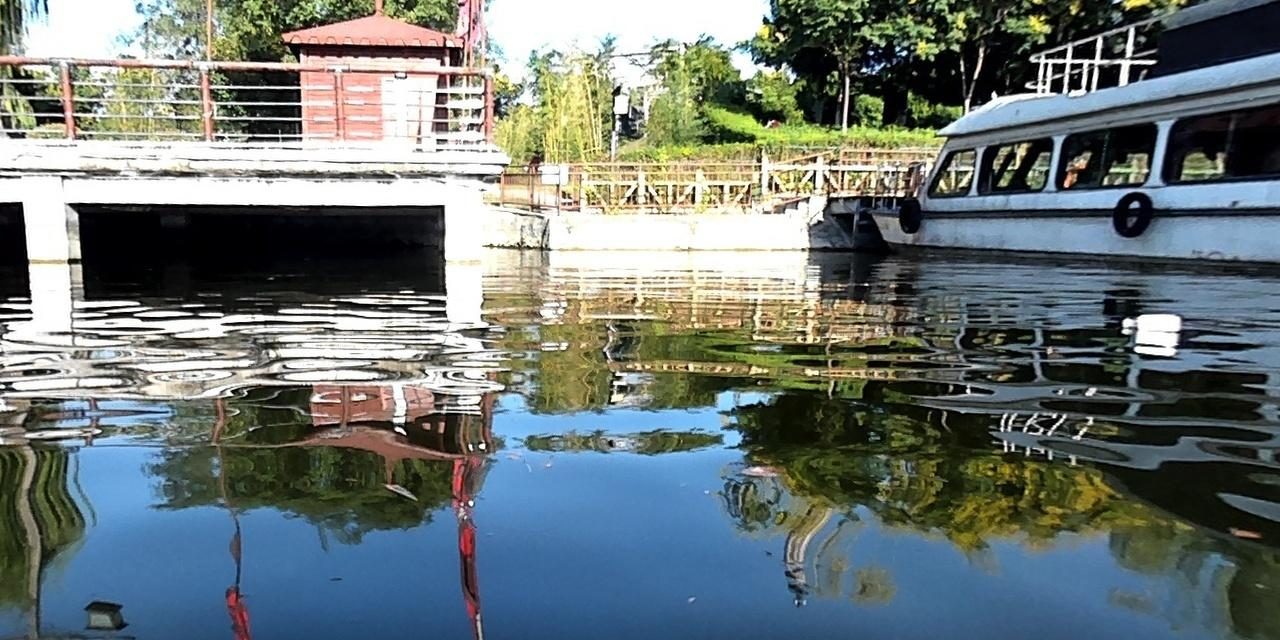bottle: (1118, 310, 1185, 331)
